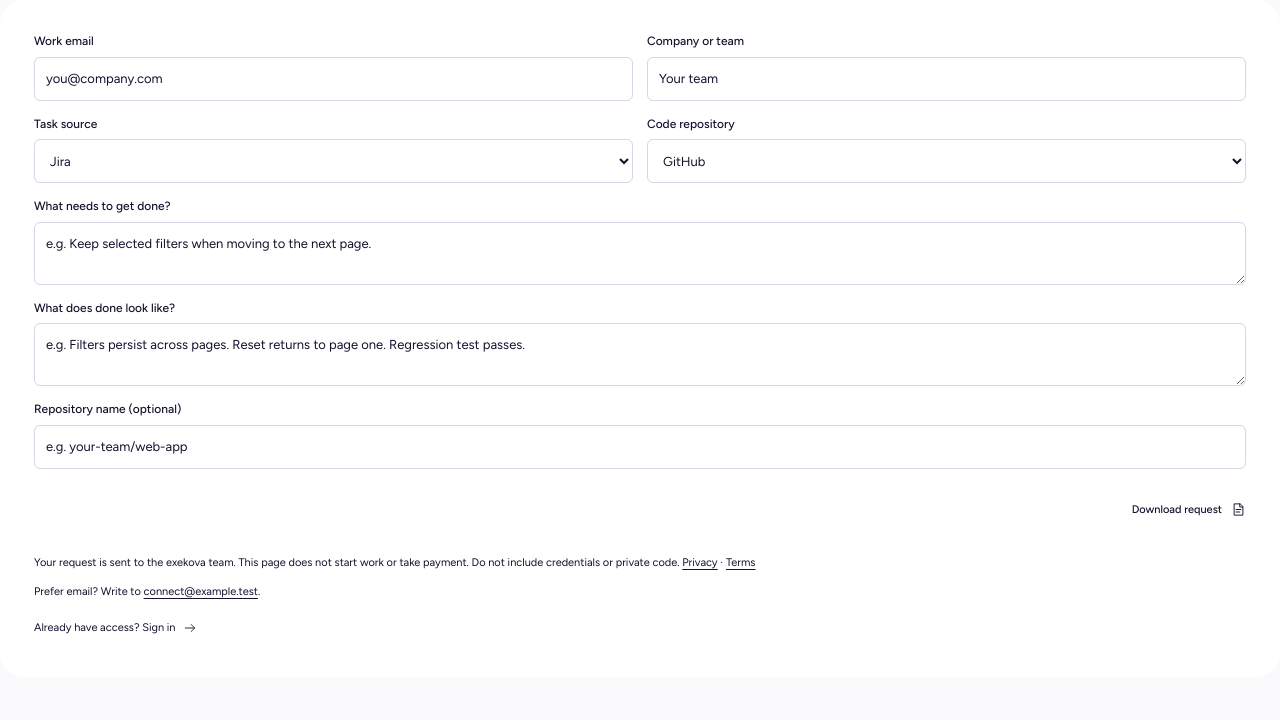
it: qualified requests › sends all task details through the contact receiver and clears only after acknowledgement
The width and height of the screenshot is (1280, 720).
In the field labelled "Work email": (334, 79) [34, 57, 633, 101], type "lead@example.test"
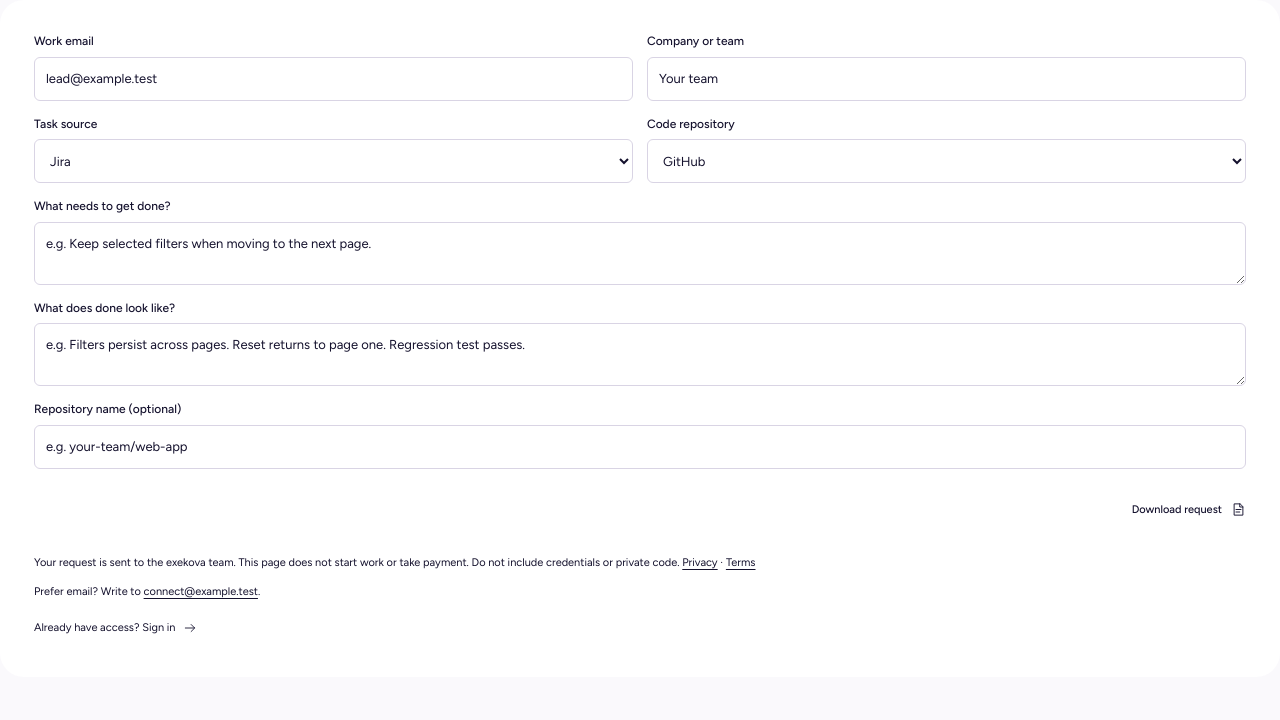
In the field labelled "Company or team": (946, 79) [647, 57, 1246, 101], type "Example team"
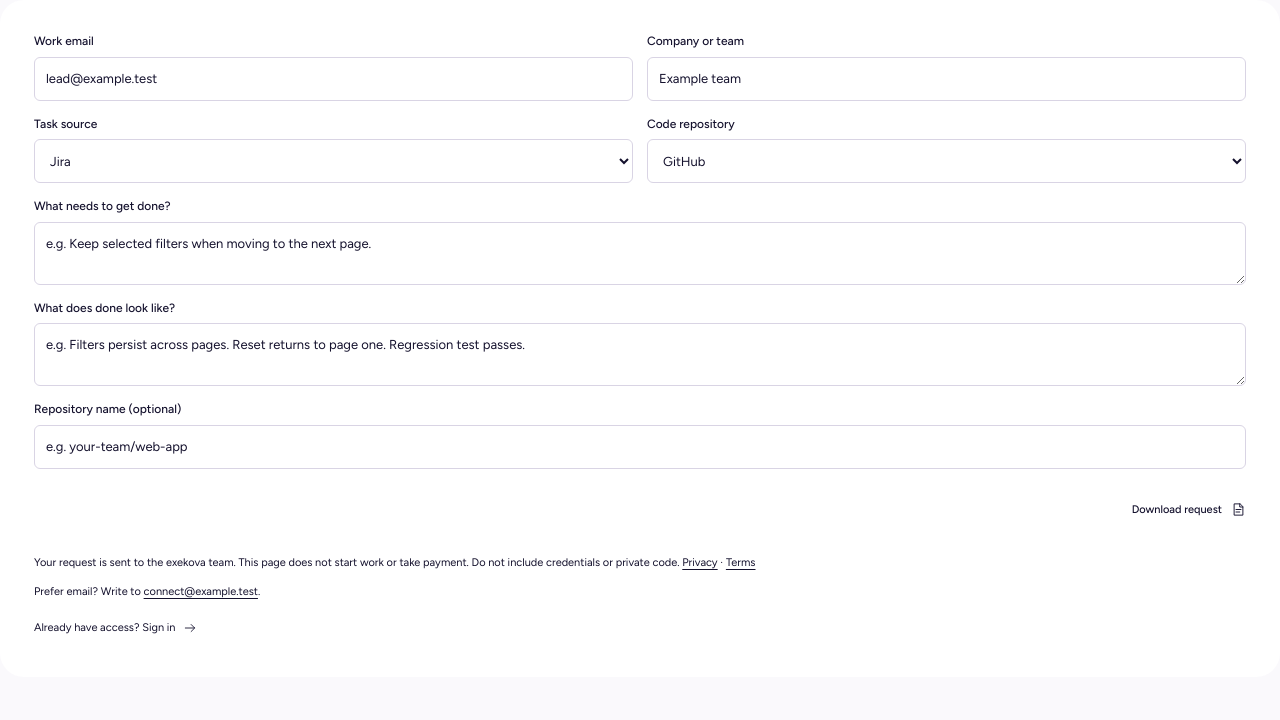
In the text box labelled "What needs to get done?": (640, 253) [34, 222, 1246, 285], type "Keep the selected filters."
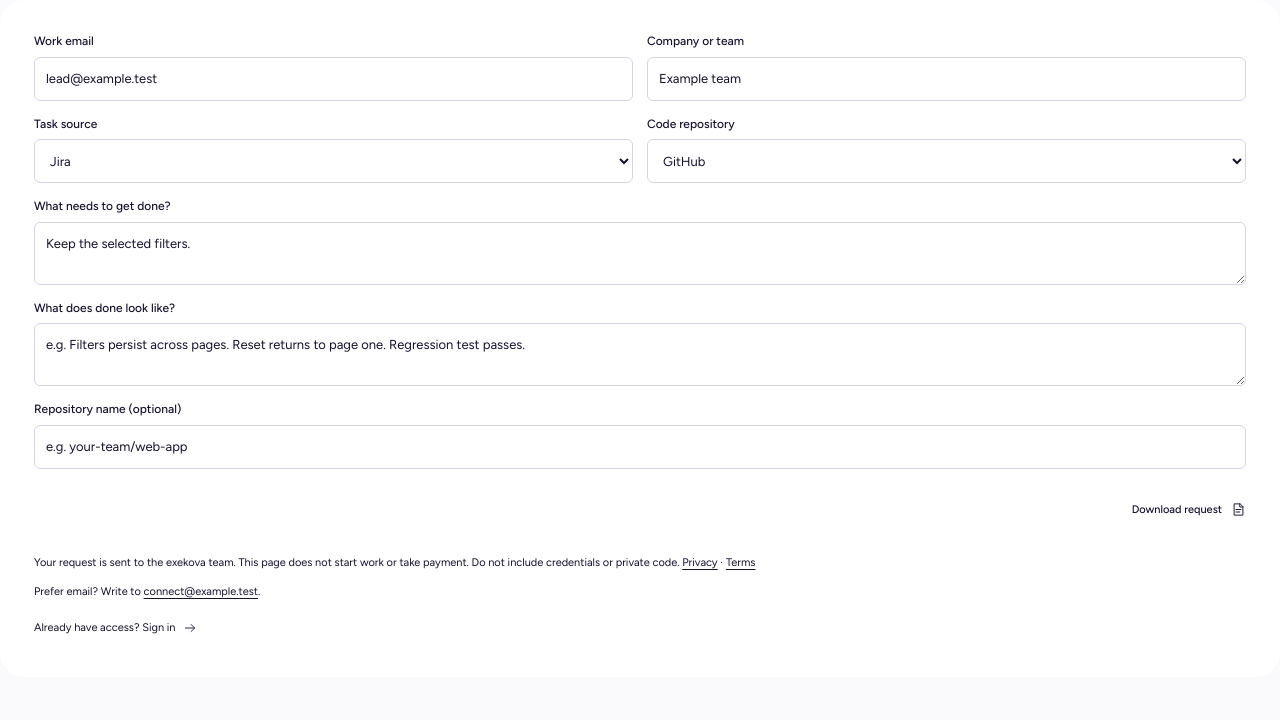
Replace the text in the text box labelled "What does done look like?" with "Filters persist. Add regression coverage.": (640, 355) [34, 323, 1246, 386]
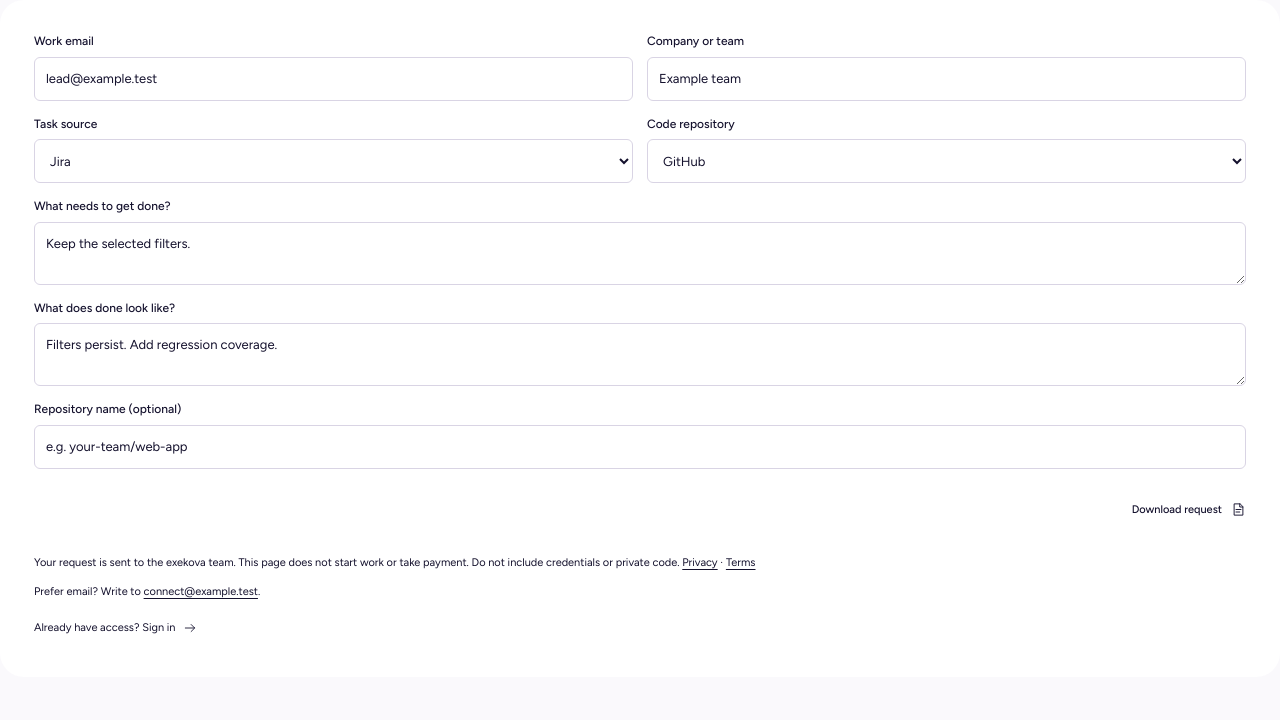
In the field labelled "Repository name (optional)": (640, 447) [34, 425, 1246, 469], type "example/web"
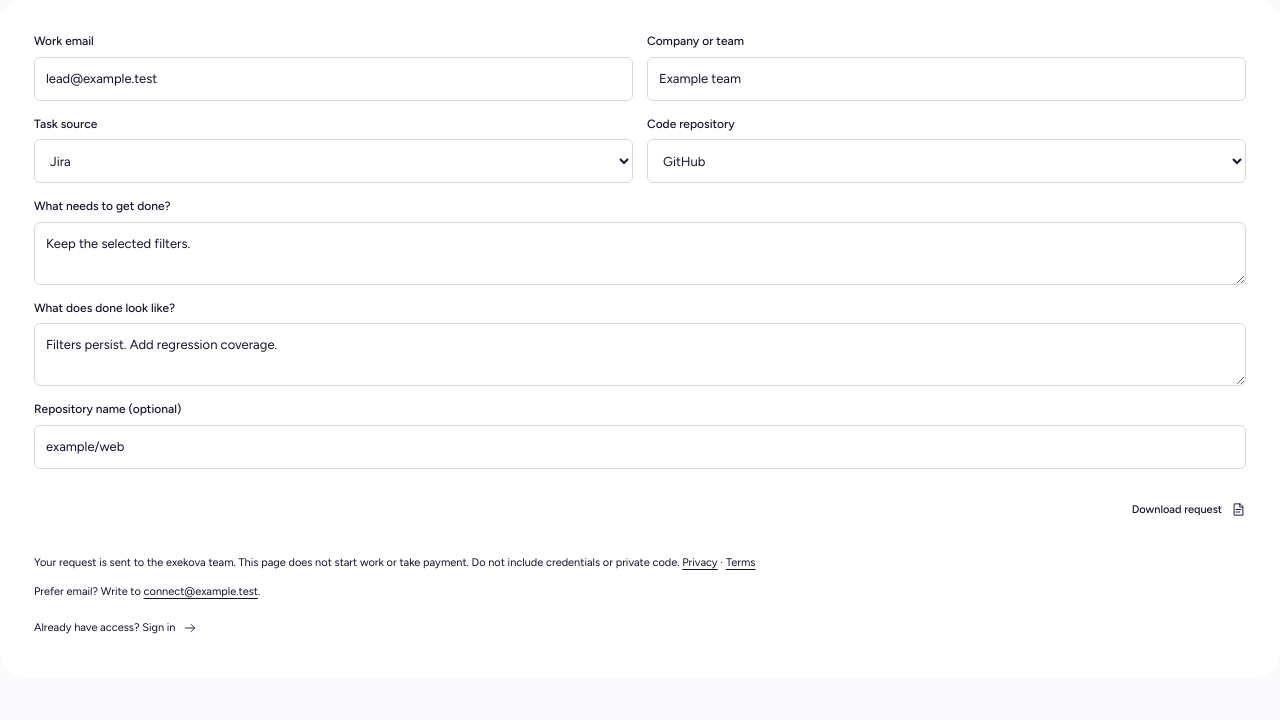
Submit the form named "Access request"
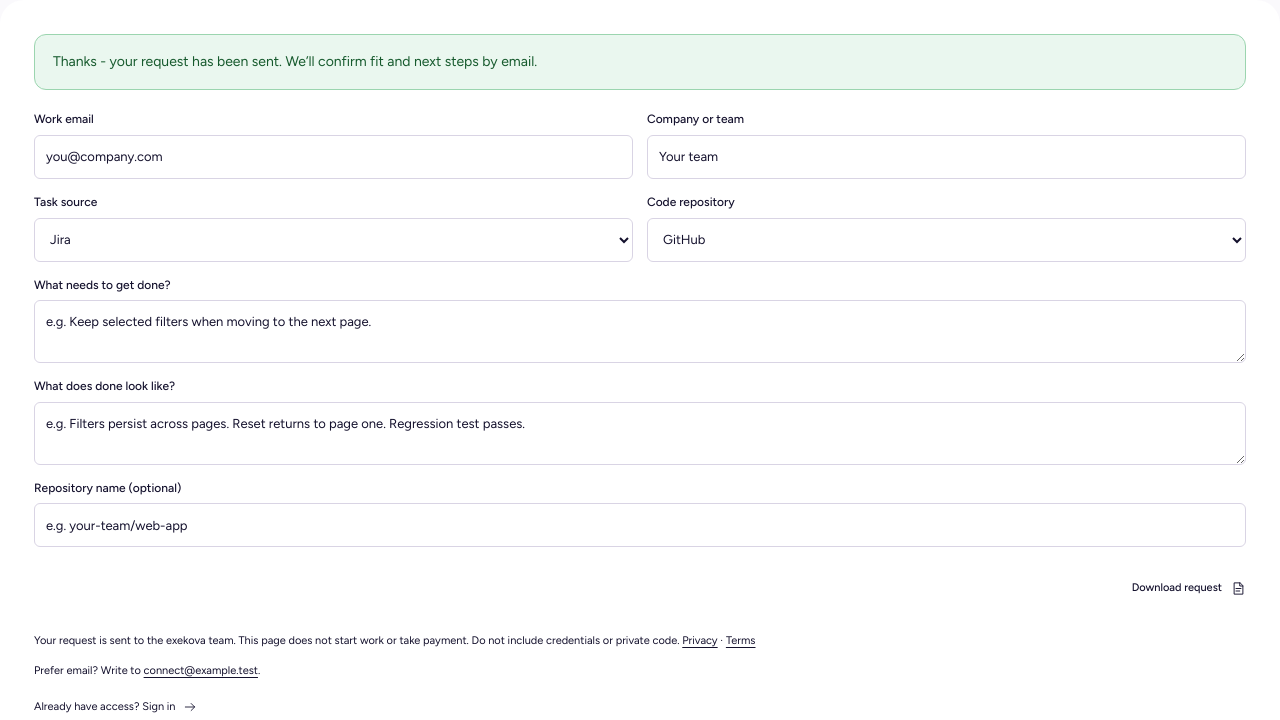
Now the message shows "request has been sent", box [53, 53, 537, 70]
Now the text box labelled "What needs to get done?" is empty, box [34, 300, 1246, 363]
